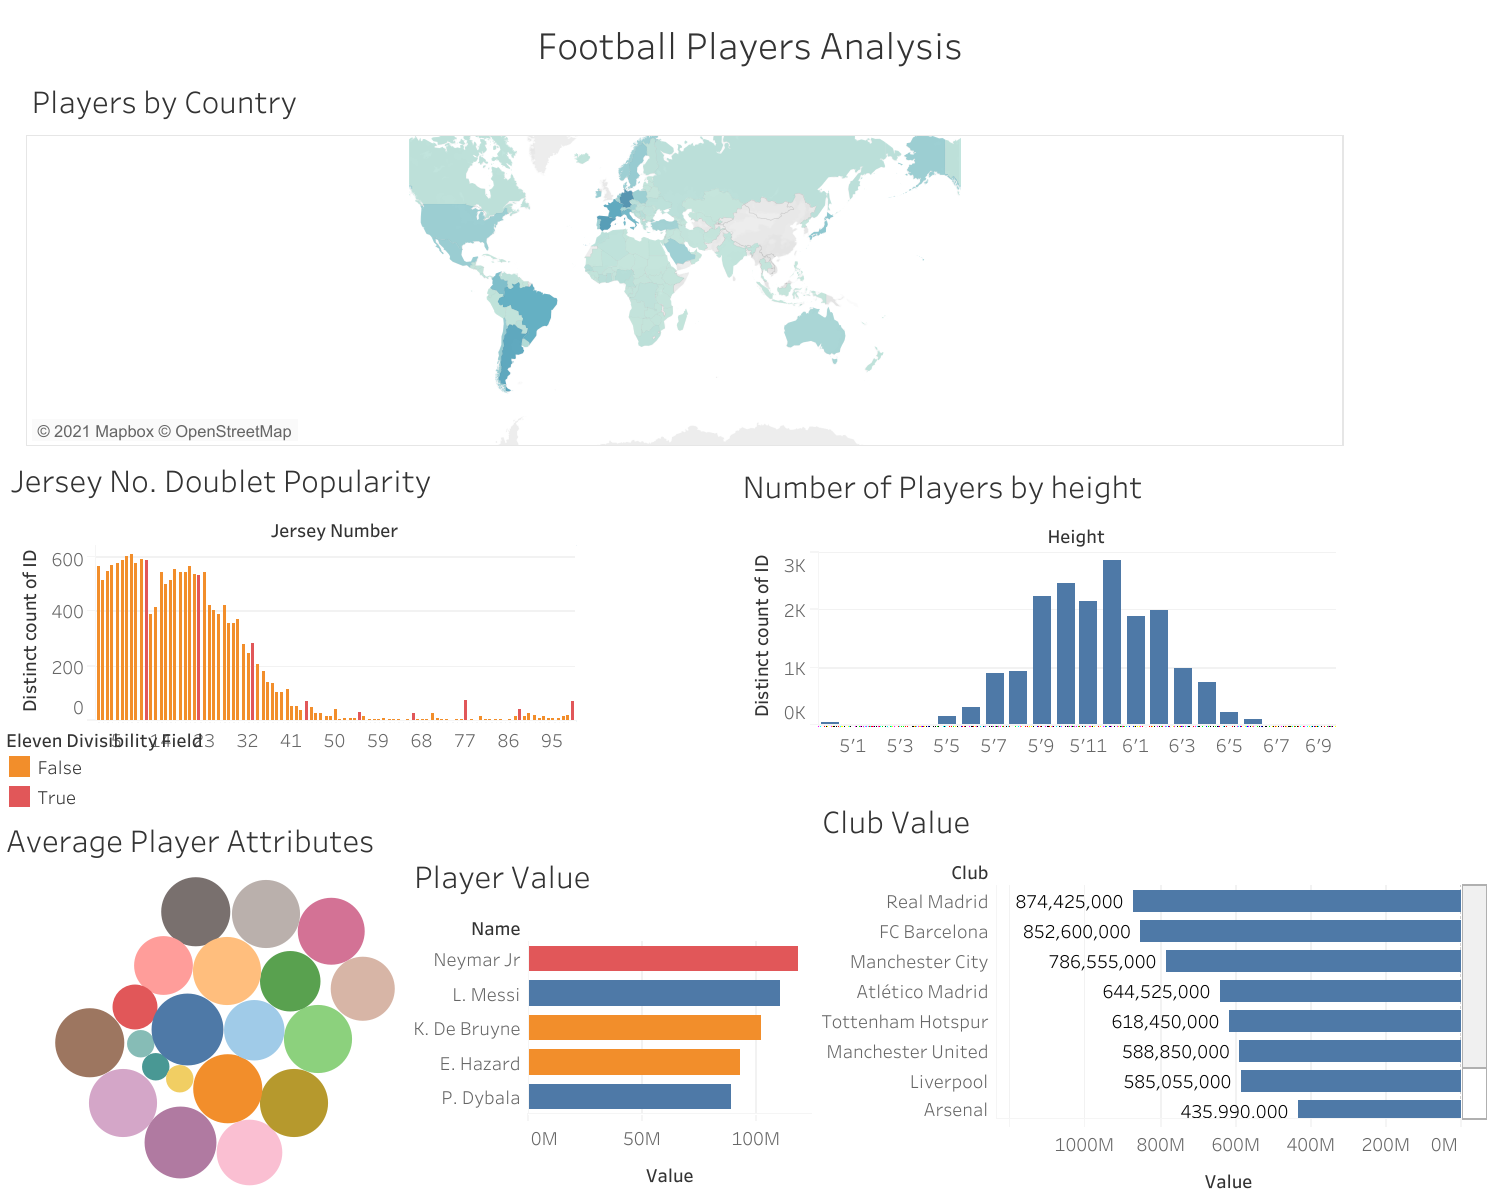

The page's visual inventory and layout, read from the dashboard file:
{"tool":"tableau","page":{"name":"Football Players Analysis","canvas":[1000,800],"ordinal":0},"visuals":[{"type":"title","box":[8,8,984,42]},{"type":"worksheet","title":"Sheet 4","mark":"Multipolygon","box":[17,47,879,251]},{"type":"worksheet","title":"Sheet 1","mark":"Automatic","rows":["ID"],"cols":["Jersey Number"],"box":[3,300,380,202]},{"type":"worksheet","title":"Sheet 2","mark":"Automatic","rows":["ID"],"cols":["Height"],"box":[491,304,399,201]},{"type":"legend","title":"Sheet 1","param":"[federated.04sx0ry1j97iwh11lu5x00bv3f7t].[none:Calculation_976436759806402560:nk","box":[3,482,204,56]},{"type":"worksheet","title":"Sheet 7","mark":"Automatic","rows":["Club"],"cols":["Value"],"box":[544,527,448,276]},{"type":"worksheet","title":"Sheet 5","mark":"Circle","box":[0,540,299,250]},{"type":"worksheet","title":"Sheet 6","mark":"Automatic","rows":["Name"],"cols":["Value"],"box":[272,564,269,235]}]}

Visuals, with their boxes in screenshot pixels (x1, y1, x2, y2), scaled from the page's 1000x800 canvas onto the 1499x1199 screenshot:
title: [12,12,1487,75]
"Sheet 4" worksheet (Multipolygon marks): [25,70,1343,447]
"Sheet 1" worksheet: [4,450,574,752]
"Sheet 2" worksheet: [736,456,1334,757]
"Sheet 1" legend: [4,722,310,806]
"Sheet 7" worksheet: [815,790,1487,1198]
"Sheet 5" worksheet (Circle marks): [0,809,448,1184]
"Sheet 6" worksheet: [408,845,811,1198]
